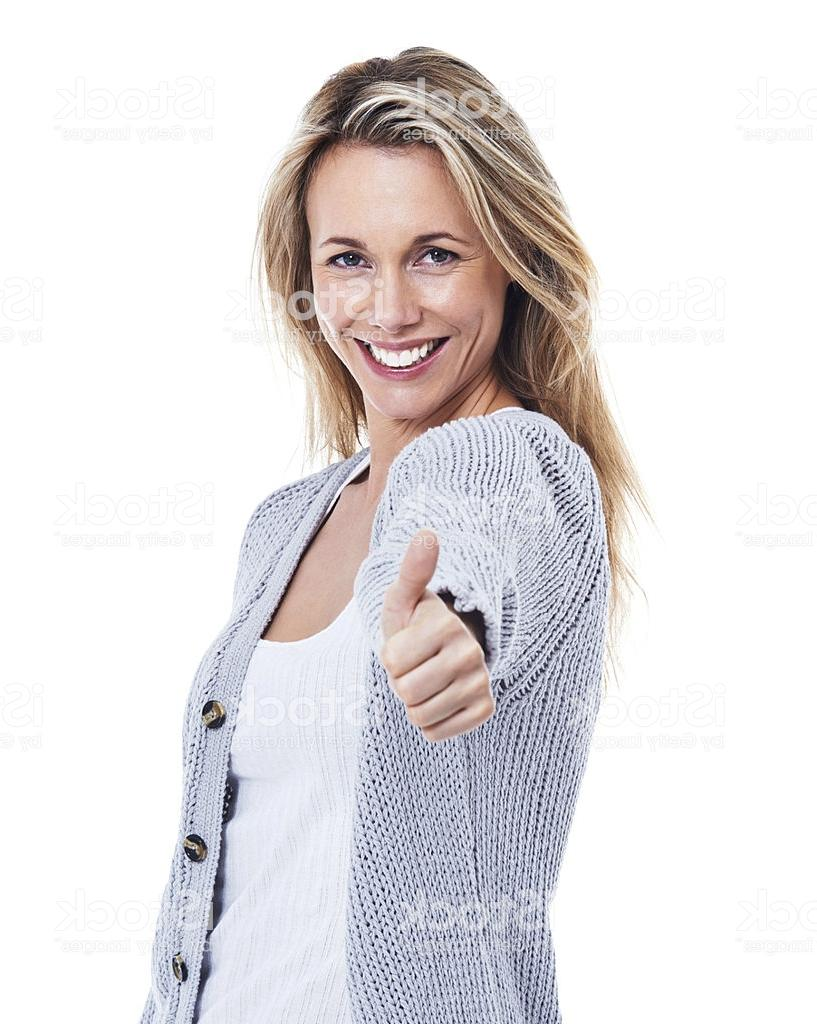thumbsup: (378, 528, 498, 744)
